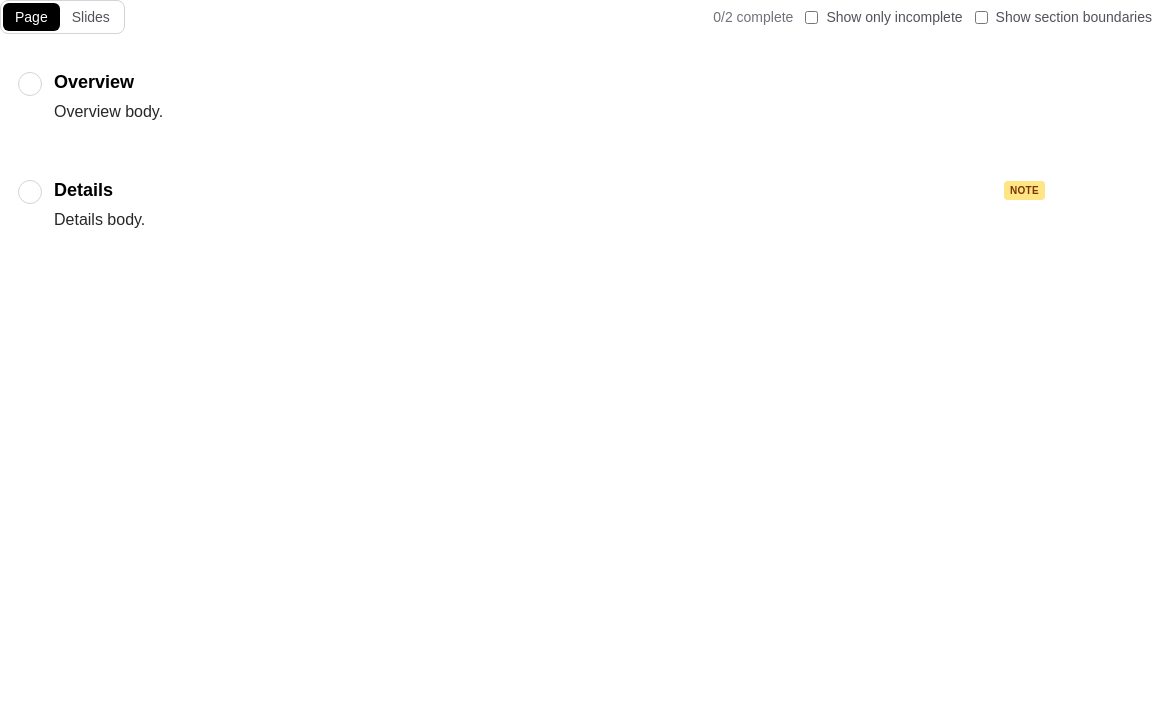
Scenario: ContentBlocks › opens notes on click even when 'Show section boundaries' is off (the default)
Click the button "Overview".
click(94, 82)  # box 54,68 -> 1134,96
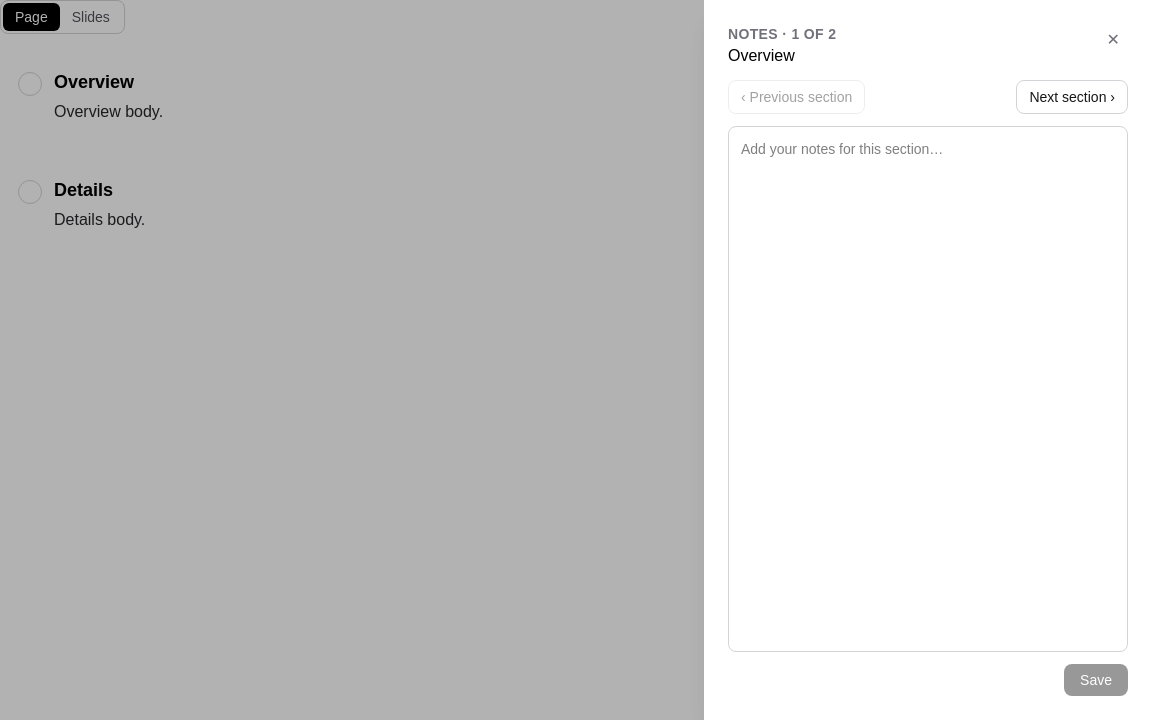
Expected: the dialog named "Notes for Overview" is shown, 704,0 -> 1151,719
